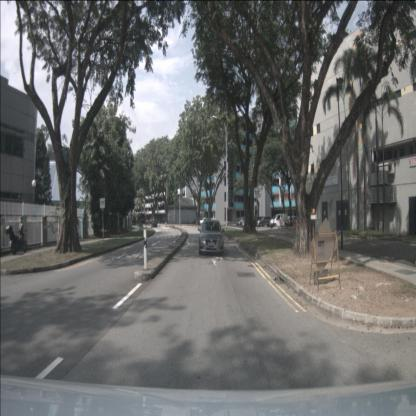vehicle-car: (199, 220, 224, 255), (270, 213, 288, 227), (257, 216, 272, 227), (236, 217, 248, 227), (286, 216, 297, 226), (151, 220, 158, 228), (199, 218, 207, 224), (193, 218, 199, 224)
vehicle-motorcycle: (5, 224, 28, 256)
